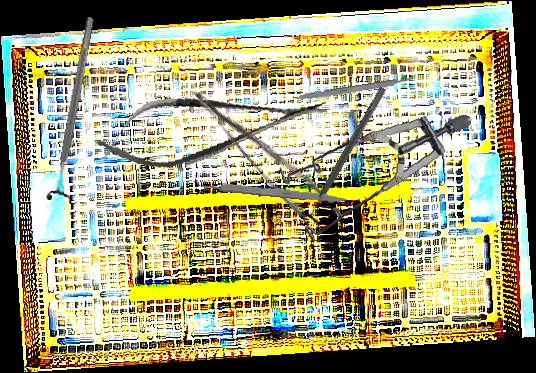Dressing Forceps: (191, 72, 331, 223)
Fixation Ring: (297, 82, 395, 229), (43, 14, 106, 205)
Micro Scissor: (92, 75, 333, 179)
Scalpel Handle: (200, 179, 351, 205), (293, 76, 412, 104)
Speculum: (273, 96, 472, 257)
